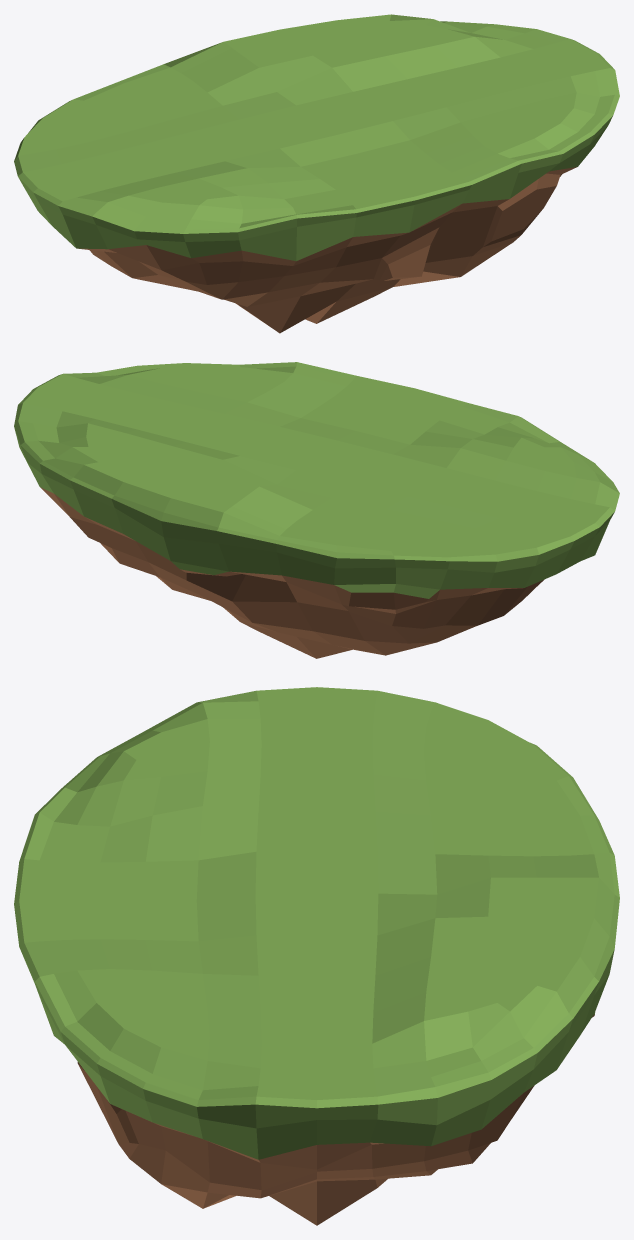
File: Island-Med.fbx
The picture shows the model from 3 angles, top to bottom: view 1: azimuth 30°, elevation 25°; view 2: azimuth 150°, elevation 25°; view 3: azimuth 270°, elevation 25°; orthographic projection. The views are drawn at different scales.
Visible parts, largest first — view 1: Island-Medium; view 2: Island-Medium; view 3: Island-Medium.
Part boxes in pixels (x1,y1,x2,y2): Island-Medium: (14, 14, 619, 333); Island-Medium: (14, 362, 619, 658); Island-Medium: (14, 687, 619, 1225).
Bounding box in the file's own units: 1367 × 494 × 833.
